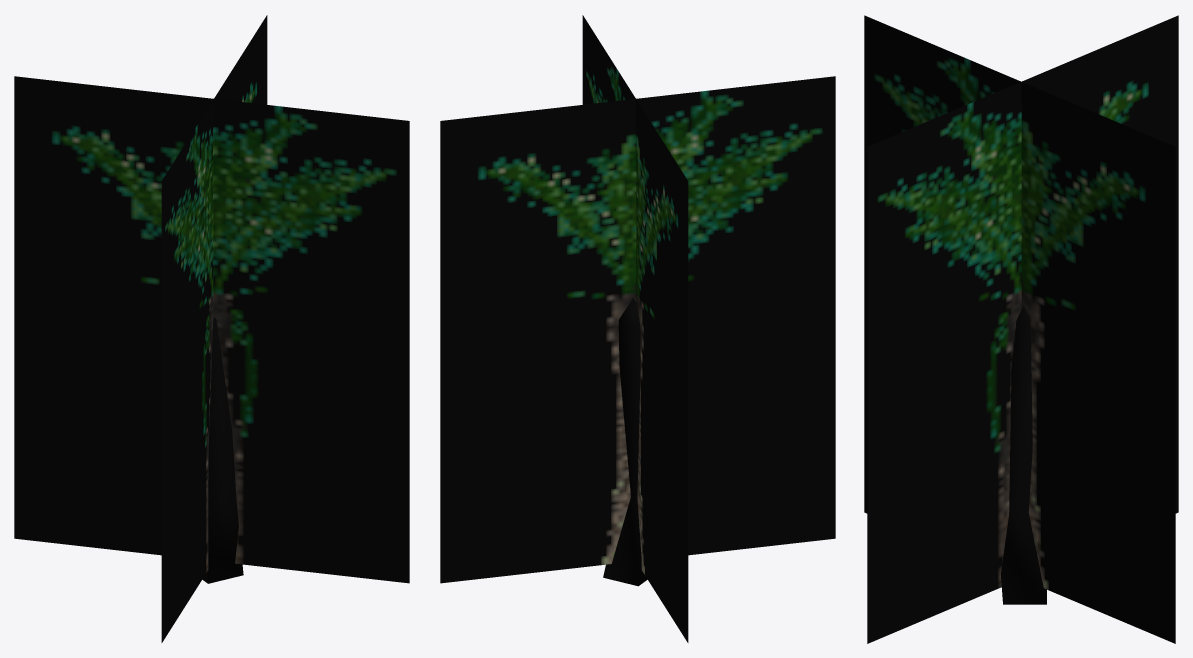
Rendered from tree042.glb.
The picture shows the model from 3 angles, left to right: view 1: azimuth 30°, elevation 25°; view 2: azimuth 150°, elevation 25°; view 3: azimuth 270°, elevation 25°; orthographic projection. The views are drawn at different scales.
Parts seen in each view (by area): view 1: tree042, tree042_trunk; view 2: tree042, tree042_trunk; view 3: tree042, tree042_trunk.
Part boxes in pixels (left/top/right/bottom): tree042: left=14, top=15, right=409, bottom=642; tree042_trunk: left=202, top=317, right=243, bottom=583; tree042: left=440, top=15, right=835, bottom=642; tree042_trunk: left=603, top=298, right=647, bottom=586; tree042: left=864, top=15, right=1178, bottom=643; tree042_trunk: left=1001, top=306, right=1046, bottom=604.
Size of the model in its own units: 1.86 by 3.34 by 1.86.
1 material, 1 textured.
